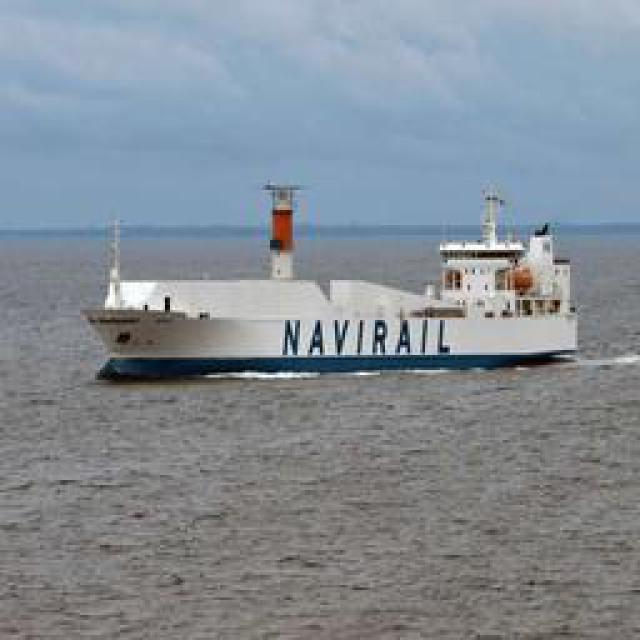Ship: (83, 201, 578, 379)
